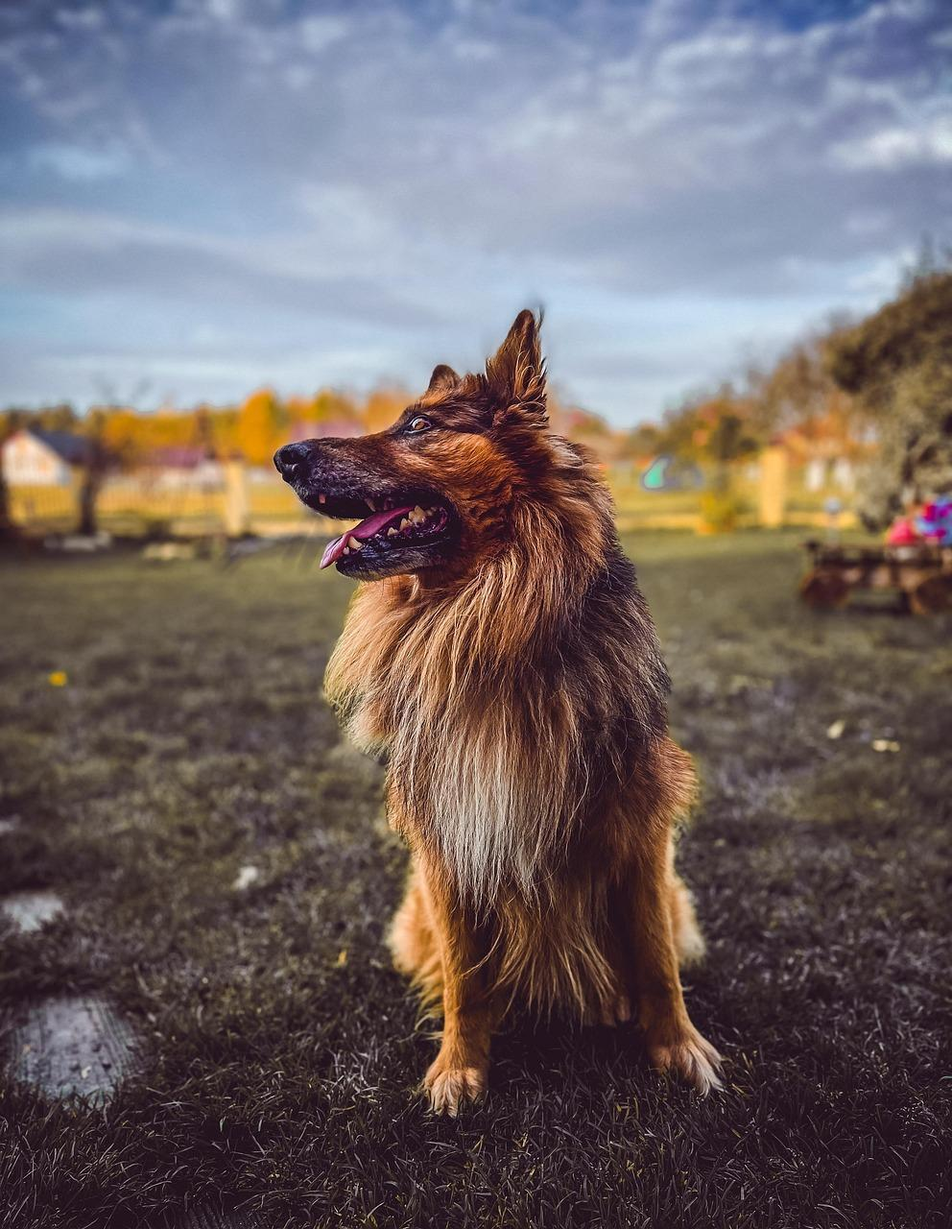german_shepherd: (260, 317, 564, 638)
